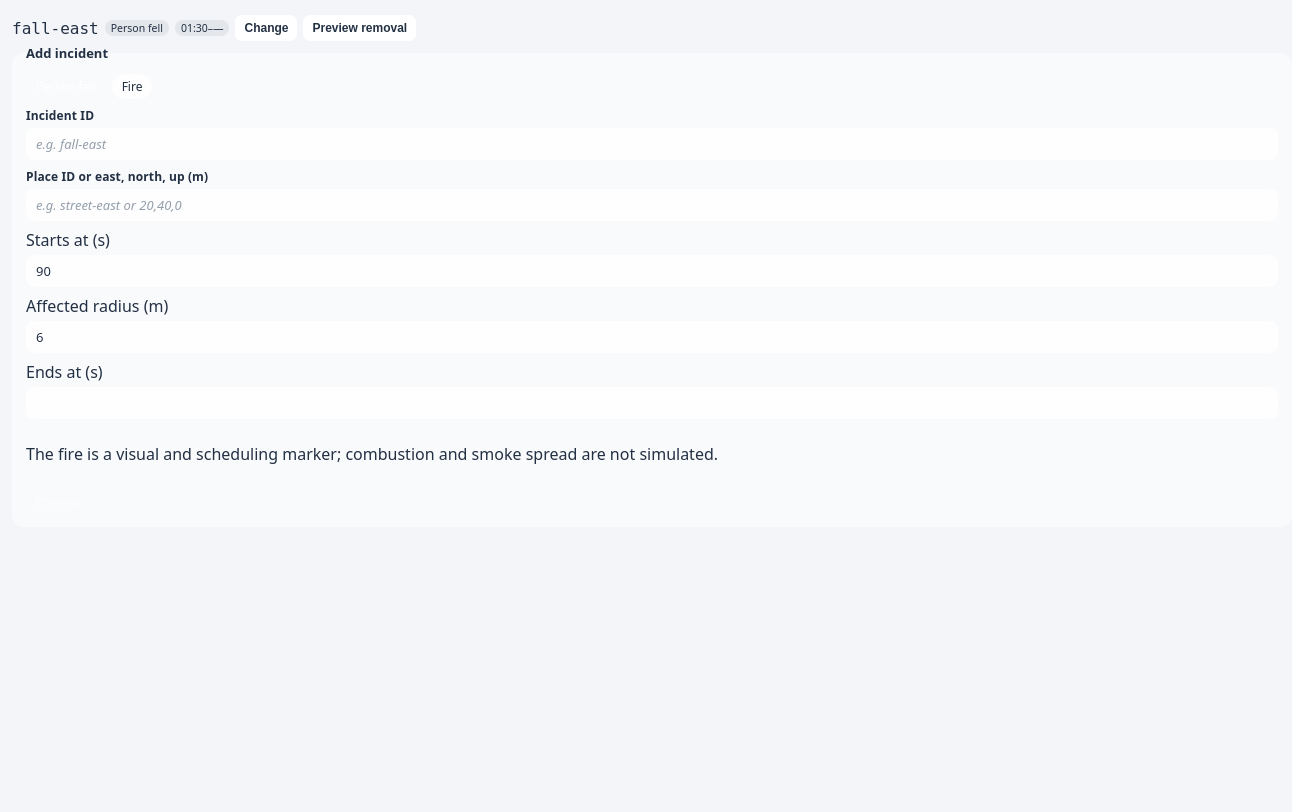
Test: rejects missing coordinates and invalid time without coercing empty values to zero
In the field labelled "Incident ID": {"x": 652, "y": 144} 26,128 -> 1278,160, type "fall-invalid"
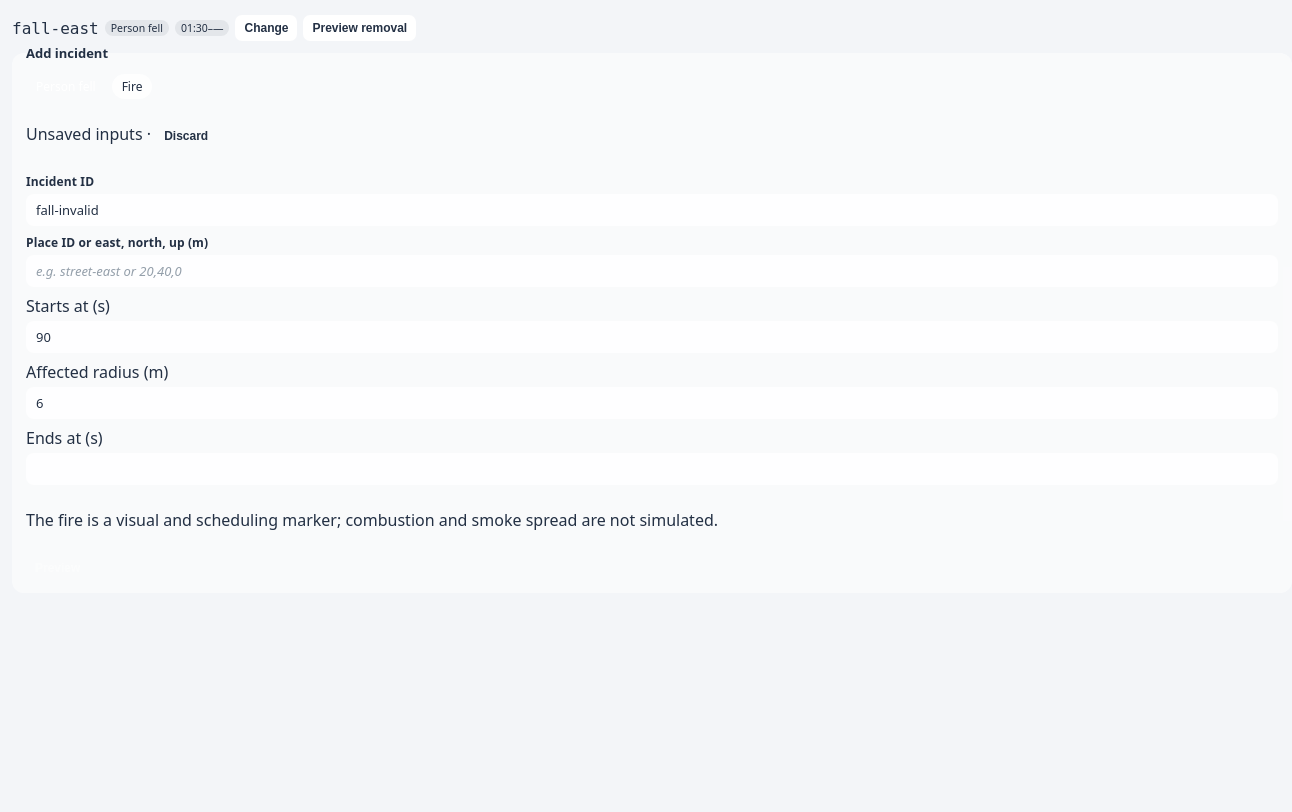
In the field named "Incident position": {"x": 652, "y": 271} 26,255 -> 1278,287, type "20,,0"
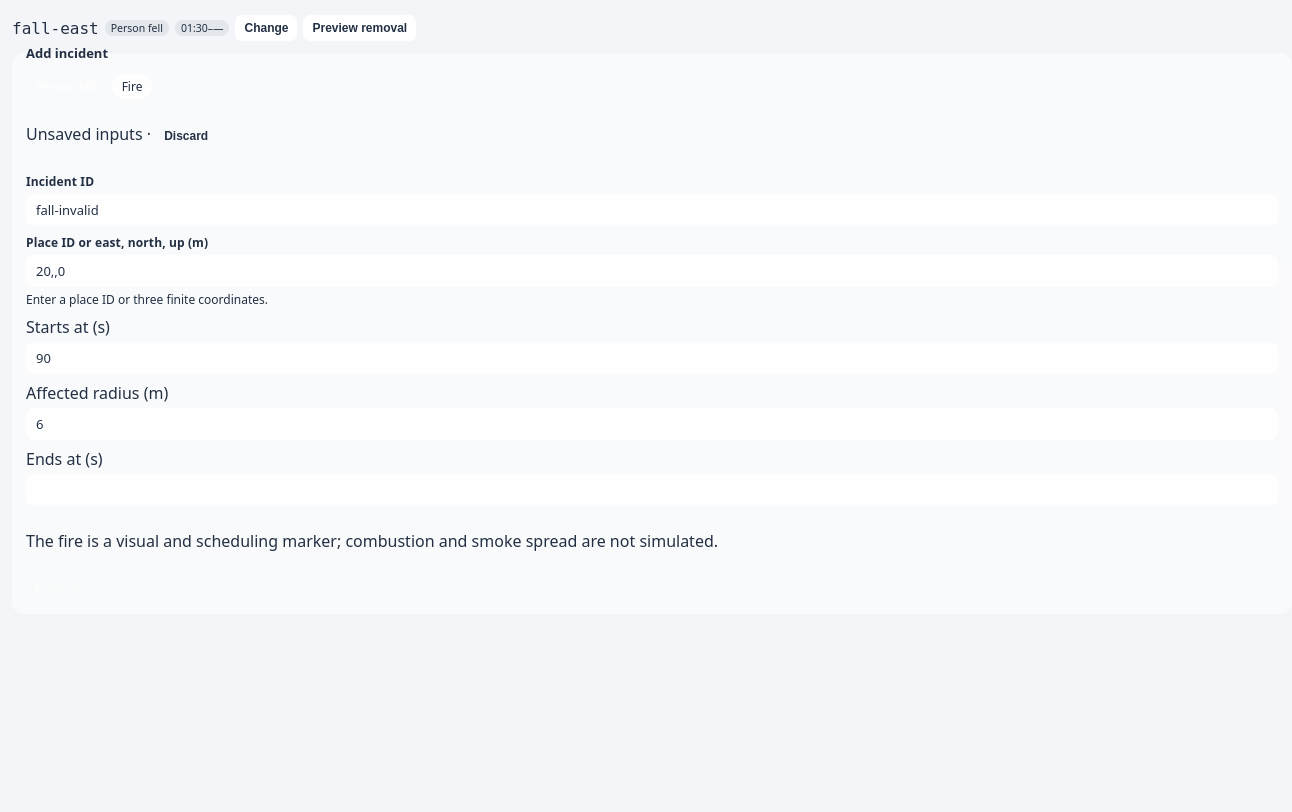
Check: the message shows "three finite coordinates", box 26,291 -> 268,308
